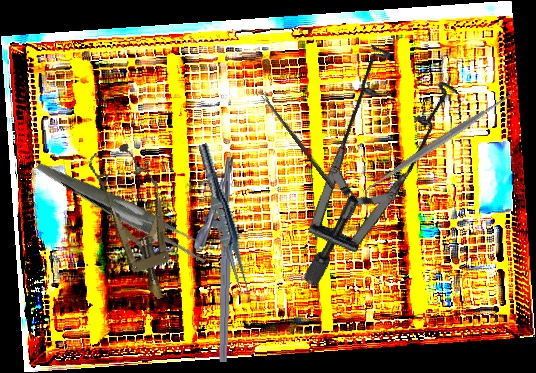Dressing Forceps: (36, 117, 217, 301)
Needle Holder: (188, 155, 237, 363)
Spatula Surgical: (357, 85, 520, 201)
Speculum: (218, 18, 506, 290), (83, 138, 190, 308)
Surgical Spoon: (261, 93, 336, 190)
Tissue Forceps: (191, 141, 256, 297)
